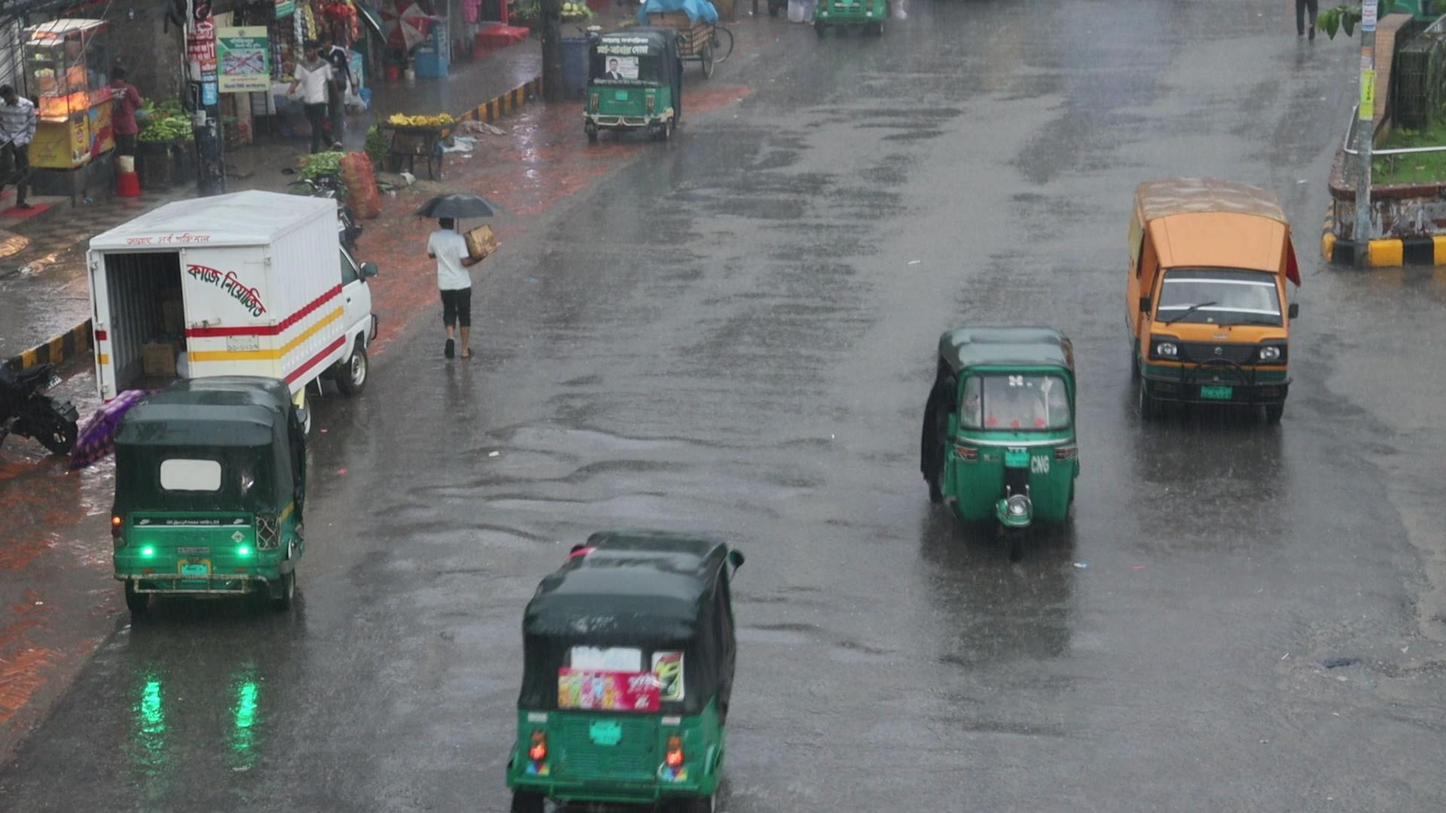Truck: (1128, 169, 1290, 418)
